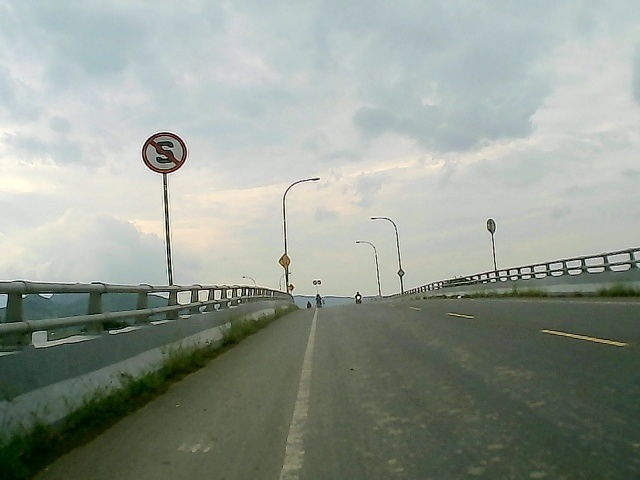Dilarang berhenti: (142, 131, 189, 173)
